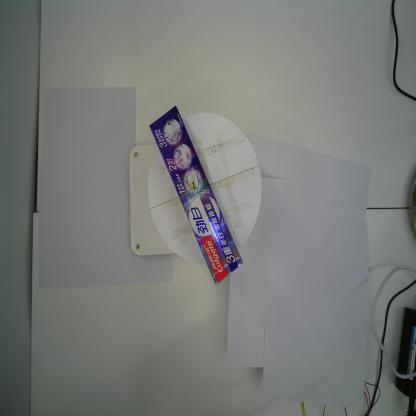Personal Hygiene: (148, 106, 244, 286)
